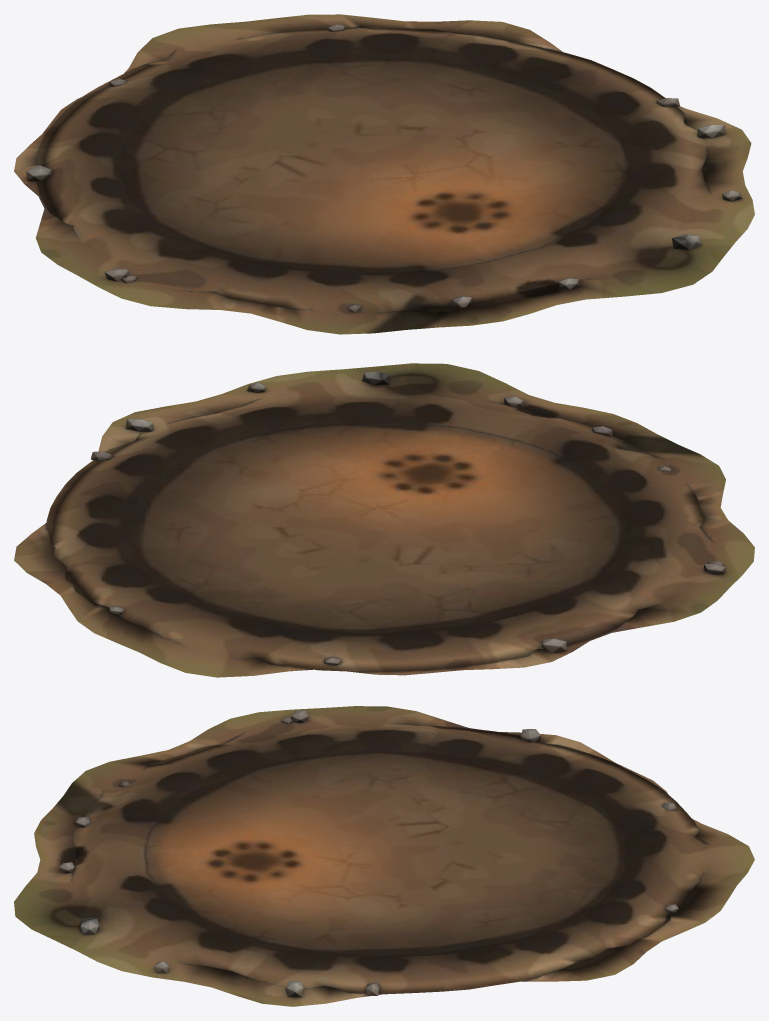
File: hut_floor.gltf
3 renders of one model, top to bottom at view 1: azimuth 30°, elevation 25°; view 2: azimuth 150°, elevation 25°; view 3: azimuth 270°, elevation 25°, orthographic. The views are drawn at different scales.
Parts seen in each view (by area): view 1: hut_floor; view 2: hut_floor; view 3: hut_floor.
Boxes of the visible parts, left/top/right/bottom form: hut_floor: left=14, top=14, right=754, bottom=334; hut_floor: left=14, top=363, right=754, bottom=677; hut_floor: left=14, top=706, right=754, bottom=1006.
Size of the model in its own units: 4.6 by 0.0911 by 4.79.
3 materials, 3 textured.
